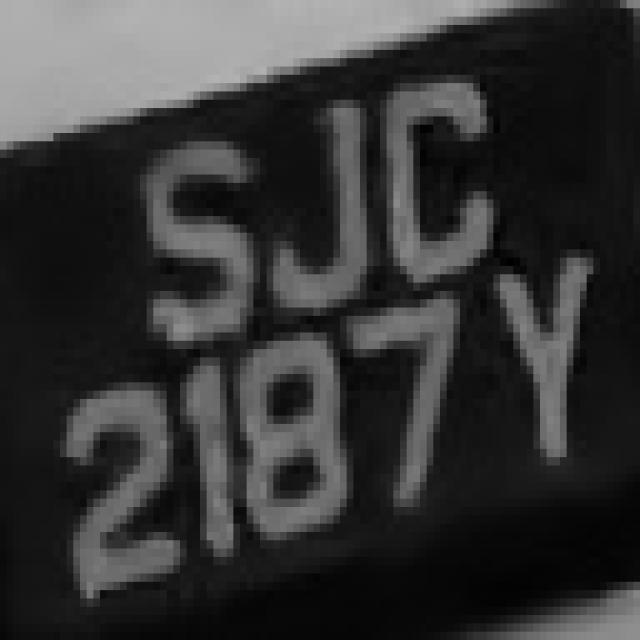1: (160, 357, 260, 582)
2: (47, 382, 173, 598)
7: (327, 274, 460, 516)
8: (227, 307, 373, 557)
C: (373, 33, 500, 283)
J: (247, 75, 393, 307)
S: (120, 116, 247, 358)
Y: (466, 249, 626, 499)
